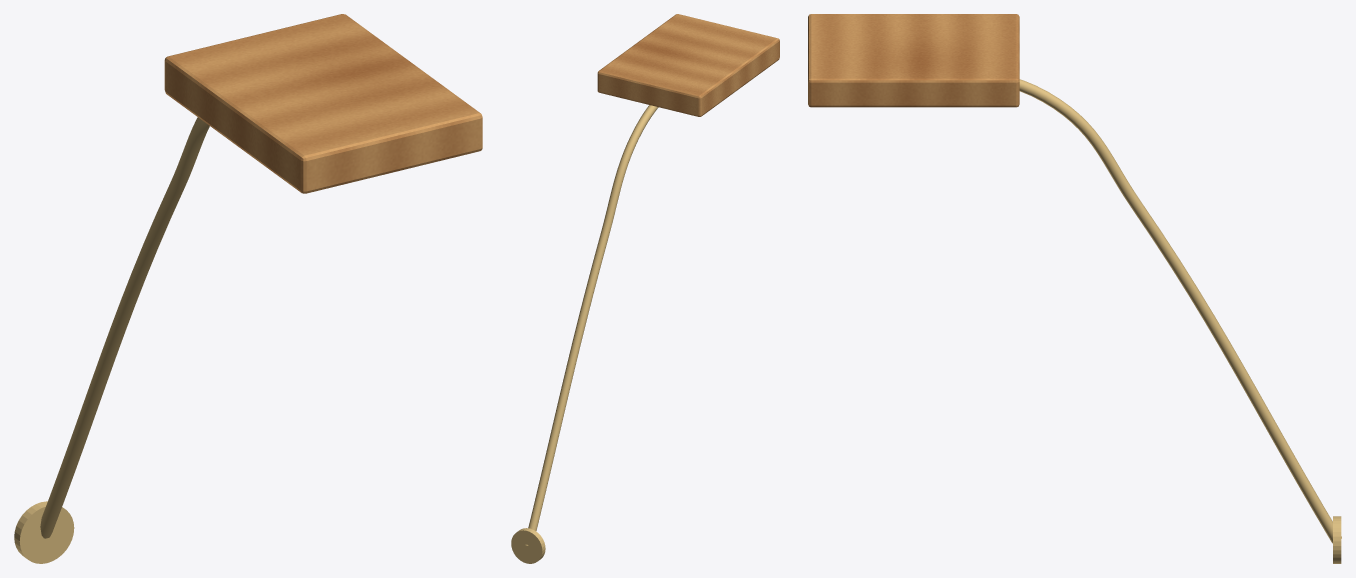
The model's file is music_machine_compact.glb.
The picture shows the model from 3 angles, left to right: view 1: azimuth 30°, elevation 25°; view 2: azimuth 150°, elevation 25°; view 3: azimuth 270°, elevation 25°; orthographic projection. The views are drawn at different scales.
Parts seen in each view (by area): view 1: Board, Arm, Foot; view 2: Board, Arm, Foot; view 3: Board, Arm.
Part boxes in pixels (box(x1,y1,x2,y2)): Board: box(164, 14, 482, 193); Arm: box(40, 117, 209, 538); Foot: box(14, 501, 74, 563); Board: box(597, 14, 779, 116); Arm: box(525, 105, 658, 545); Foot: box(511, 528, 545, 563); Board: box(808, 14, 1019, 107); Arm: box(1019, 79, 1341, 543).
Bounding box in the file's own units: 0.3 × 1.07 × 1.01.
Materials: 2 (1 with a texture image).
